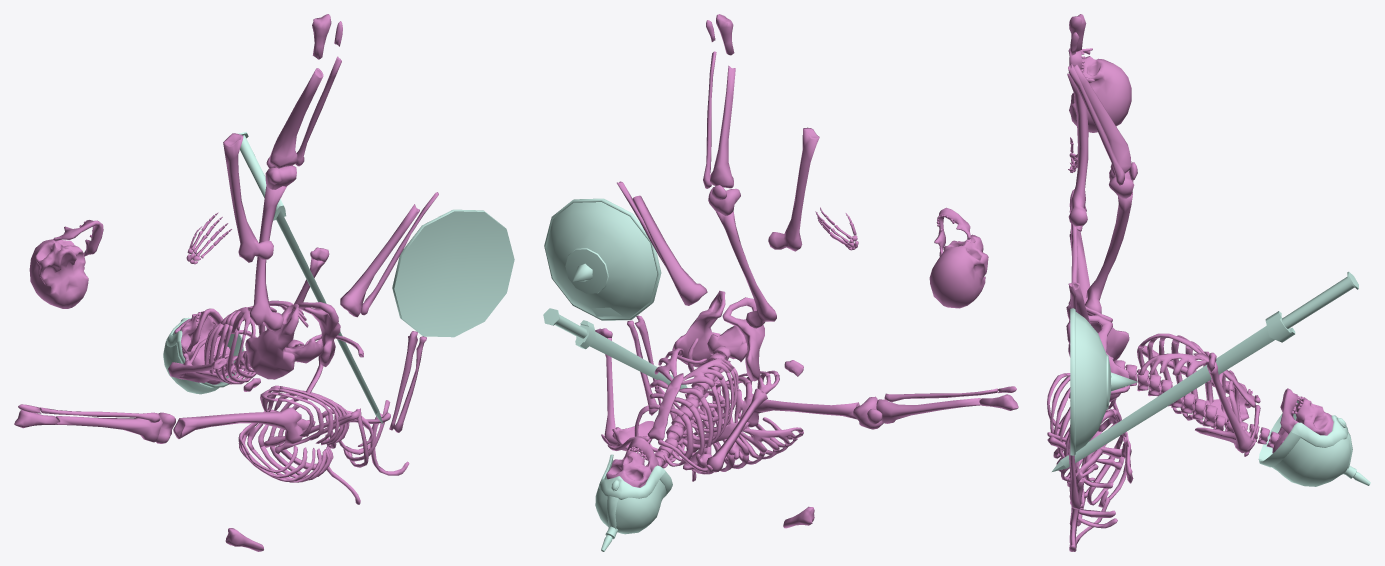
File: Bone_006.FBX
3 renders of one model, left to right at view 1: azimuth 30°, elevation 25°; view 2: azimuth 150°, elevation 25°; view 3: azimuth 270°, elevation 25°, orthographic. The views are drawn at different scales.
Parts seen in each view (by area): view 1: Bone_006_LOD0; view 2: Bone_006_LOD0; view 3: Bone_006_LOD0.
Boxes of the visible parts, left/top/right/bottom form: Bone_006_LOD0: left=14, top=14, right=514, bottom=551; Bone_006_LOD0: left=543, top=14, right=1018, bottom=551; Bone_006_LOD0: left=1047, top=14, right=1370, bottom=551.
Size of the model in its own units: 337 by 181 by 337.
